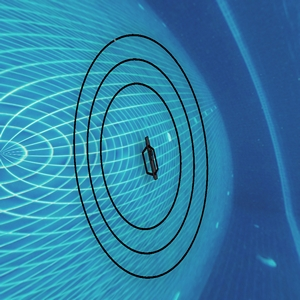submarine: (142, 141, 160, 176)
